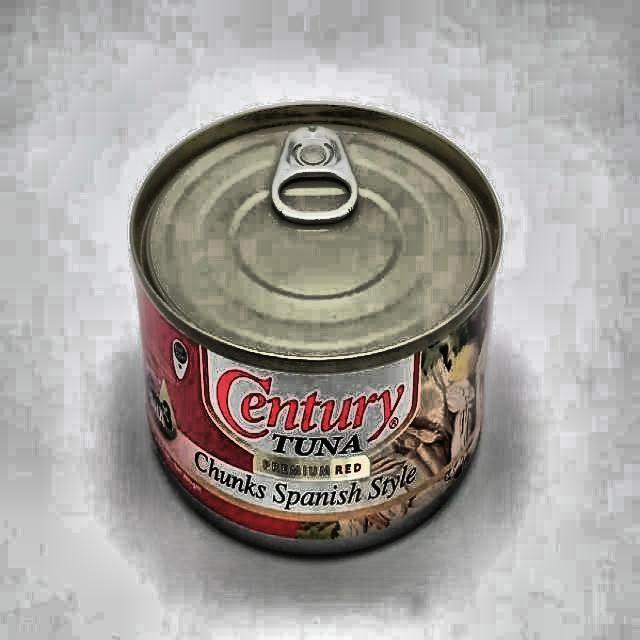metal: (129, 105, 503, 560)
